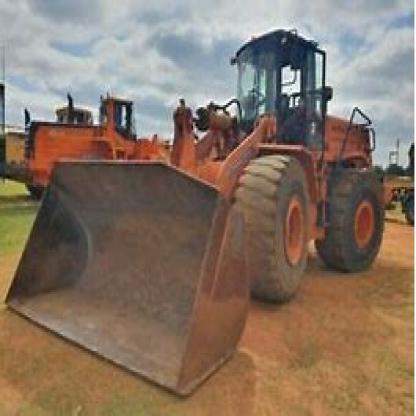bull_dozer/loader/grader: (3, 23, 394, 404)
